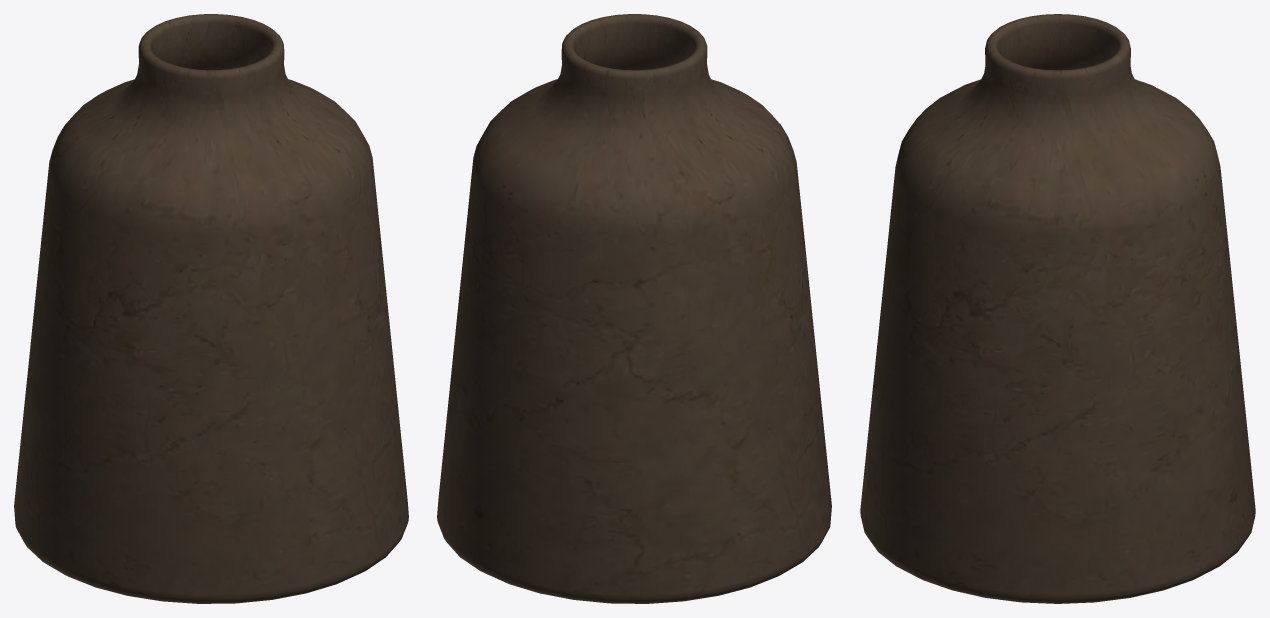
The model's file is 静物_瓶罐_brown_vase_opt.glb.
3 views of the same model, side by side, from view 1: azimuth 30°, elevation 25°; view 2: azimuth 150°, elevation 25°; view 3: azimuth 270°, elevation 25° (orthographic).
Visible parts, largest first — view 1: SM_MCVase_M_MCVase_0; view 2: SM_MCVase_M_MCVase_0; view 3: SM_MCVase_M_MCVase_0.
Boxes of the visible parts, x1,y1,x2,y2 form: SM_MCVase_M_MCVase_0: (14, 14, 408, 603); SM_MCVase_M_MCVase_0: (437, 14, 831, 603); SM_MCVase_M_MCVase_0: (860, 14, 1255, 603).
Bounding box in the file's own units: 0.224 × 0.3012 × 0.224.
Materials: 1 (1 with a texture image).
